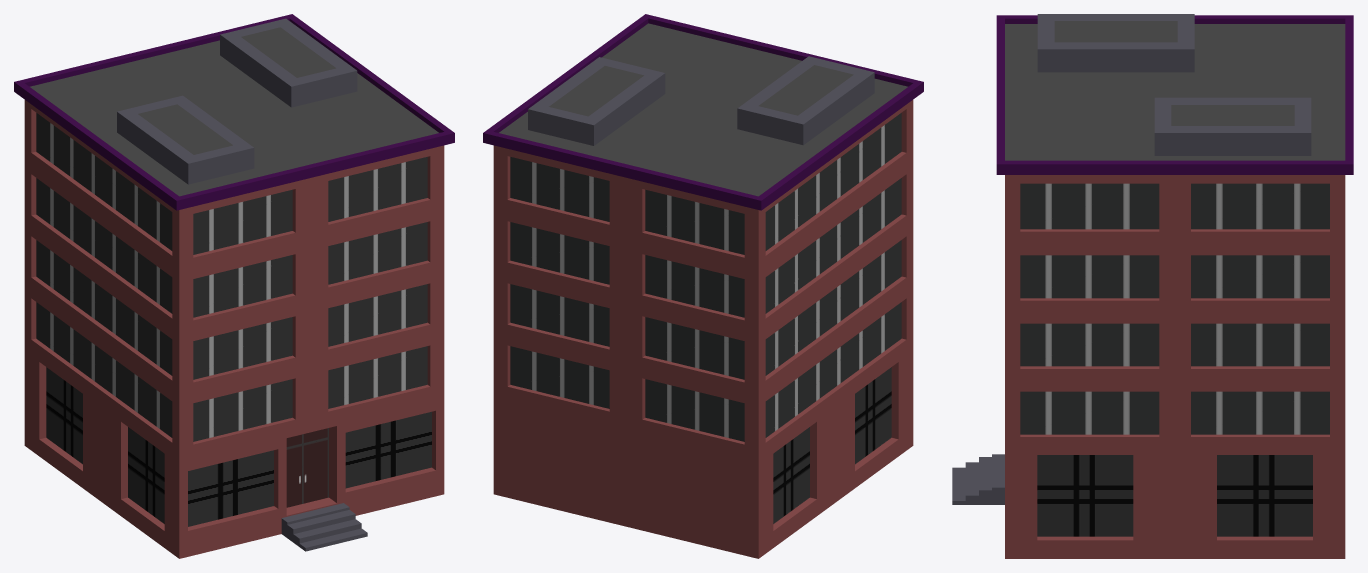
The model's file is building17c.FBX.
3 renders of one model, left to right at view 1: azimuth 30°, elevation 25°; view 2: azimuth 150°, elevation 25°; view 3: azimuth 270°, elevation 25°, orthographic. The views are drawn at different scales.
Visible parts, largest first — view 1: building17c; view 2: building17c; view 3: building17c.
Boxes of the visible parts, left/top/right/bottom form: building17c: left=14, top=14, right=454, bottom=558; building17c: left=483, top=14, right=923, bottom=558; building17c: left=952, top=14, right=1353, bottom=558.
Bounding box in the file's own units: 21.12 × 27.44 × 24.01.
